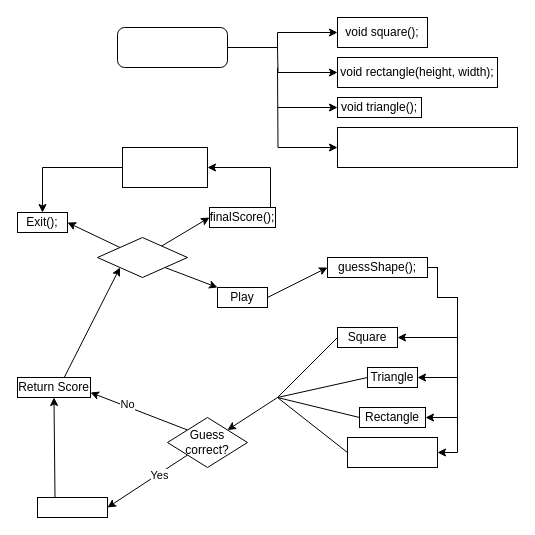
The diagram is 535 pixels wide and 535 high, and some of its shapes have lost their labels. Each missing label, with the box of its shape:
displayScore();: (122, 146, 208, 188)
initialize: (116, 26, 228, 68)
int calculateScore(int guess); -returns score: (336, 126, 518, 168)
None of above: (346, 436, 438, 468)
Score+=10: (36, 496, 108, 518)
start: (96, 236, 188, 278)
